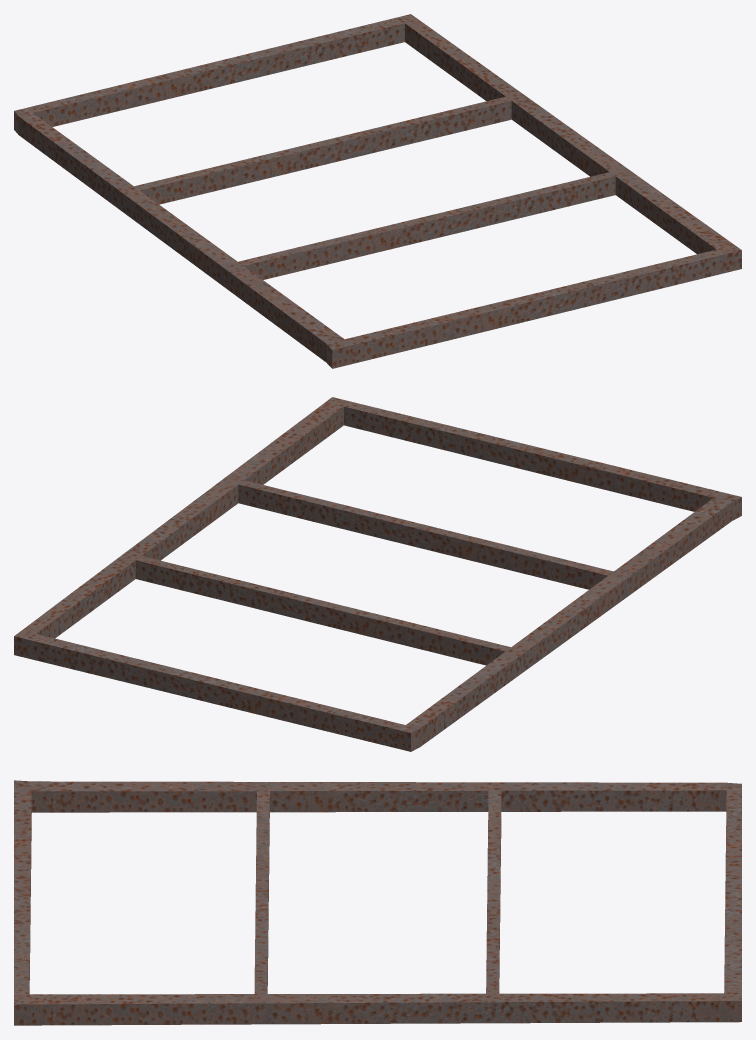
Rendered from SM_NeoLD_09_Metal_00.fbx.
The picture shows the model from 3 angles, top to bottom: view 1: azimuth 30°, elevation 25°; view 2: azimuth 150°, elevation 25°; view 3: azimuth 270°, elevation 25°; orthographic projection. The views are drawn at different scales.
Parts seen in each view (by area): view 1: SM_NeoLD_09_Metal_00; view 2: SM_NeoLD_09_Metal_00; view 3: SM_NeoLD_09_Metal_00.
Part boxes in pixels (box(x1,y1,x2,y2)): SM_NeoLD_09_Metal_00: box(14, 14, 741, 368); SM_NeoLD_09_Metal_00: box(14, 397, 741, 751); SM_NeoLD_09_Metal_00: box(14, 780, 741, 1025).
Size of the model in its own units: 673 by 29.59 by 924.
